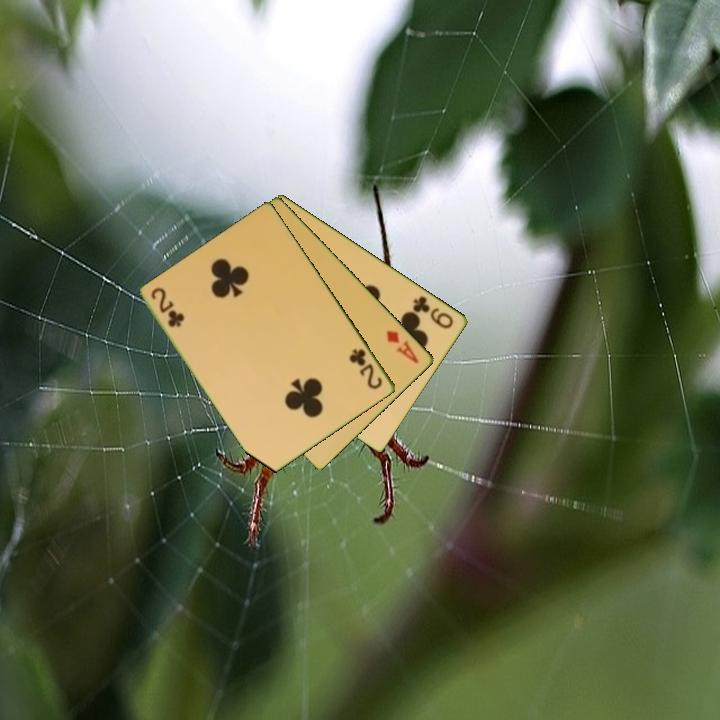2c: (346, 345, 386, 392), (148, 284, 187, 330)
9c: (409, 292, 457, 332)
Ad: (383, 327, 422, 366)
